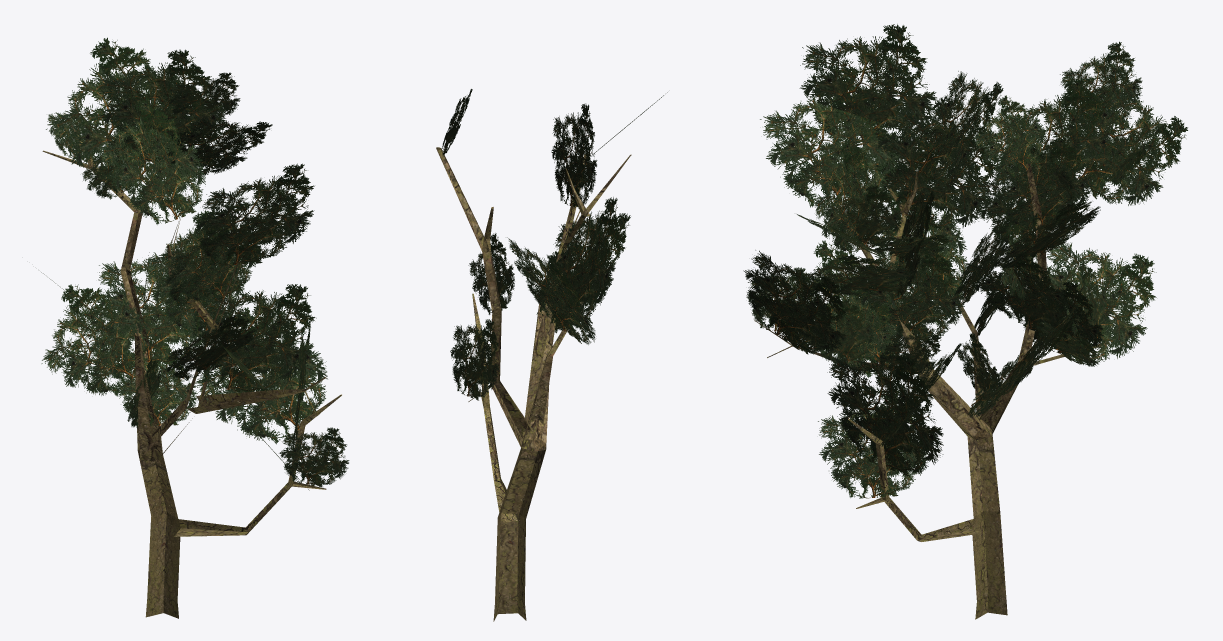
The model's file is tree06.glb.
The picture shows the model from 3 angles, left to right: view 1: azimuth 30°, elevation 25°; view 2: azimuth 150°, elevation 25°; view 3: azimuth 270°, elevation 25°; orthographic projection. The views are drawn at different scales.
Visible parts, largest first — view 1: treee06; view 2: treee06; view 3: treee06.
Part boxes in pixels (x1=…): treee06: x1=41, y1=37, x2=349, y2=618; treee06: x1=436, y1=89, x2=667, y2=621; treee06: x1=743, y1=24, x2=1187, y2=619.
Size of the model in its own units: 37.75 by 75.64 by 58.09.
Materials: 1 (1 with a texture image).
